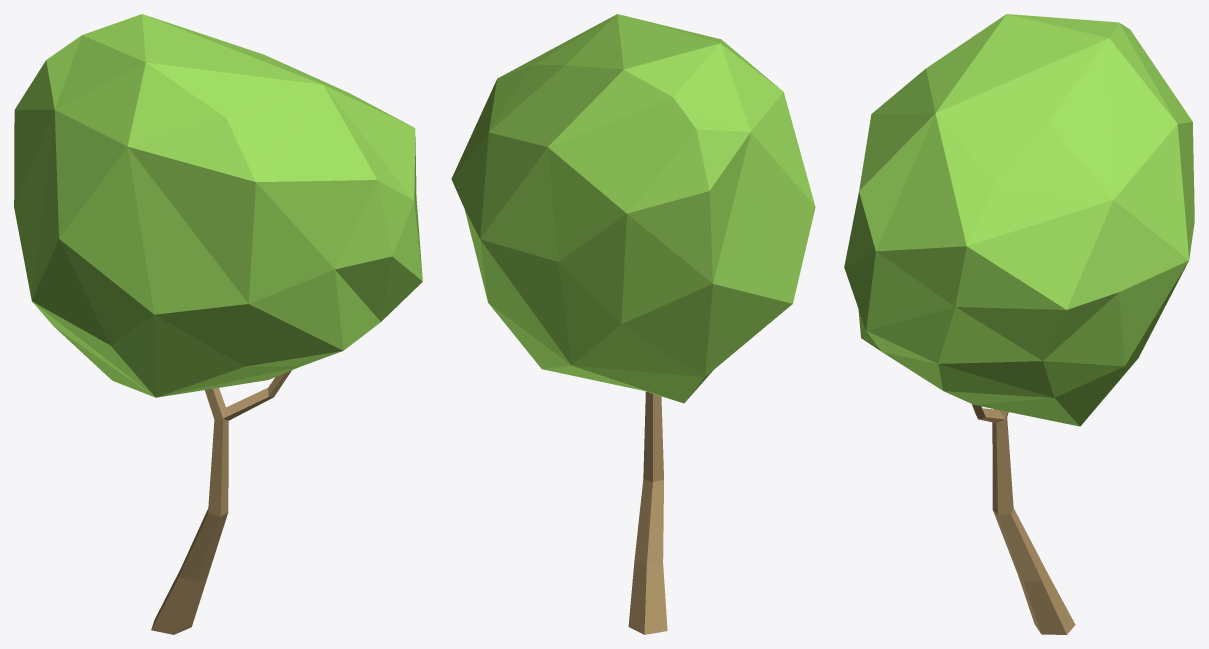
File: Apple_Tree_m_04_LOD.fbx
3 views of the same model, side by side, from view 1: azimuth 30°, elevation 25°; view 2: azimuth 150°, elevation 25°; view 3: azimuth 270°, elevation 25° (orthographic). The views are drawn at different scales.
Parts seen in each view (by area): view 1: Apple_Tree_m_04_LOD0; view 2: Apple_Tree_m_04_LOD0; view 3: Apple_Tree_m_04_LOD0.
Part boxes in pixels (x1,y1,x2,y2): Apple_Tree_m_04_LOD0: (14, 14, 422, 634); Apple_Tree_m_04_LOD0: (451, 14, 815, 634); Apple_Tree_m_04_LOD0: (844, 14, 1194, 634).
Size of what is drawn, in the model's own units: 524 by 864 by 466.
